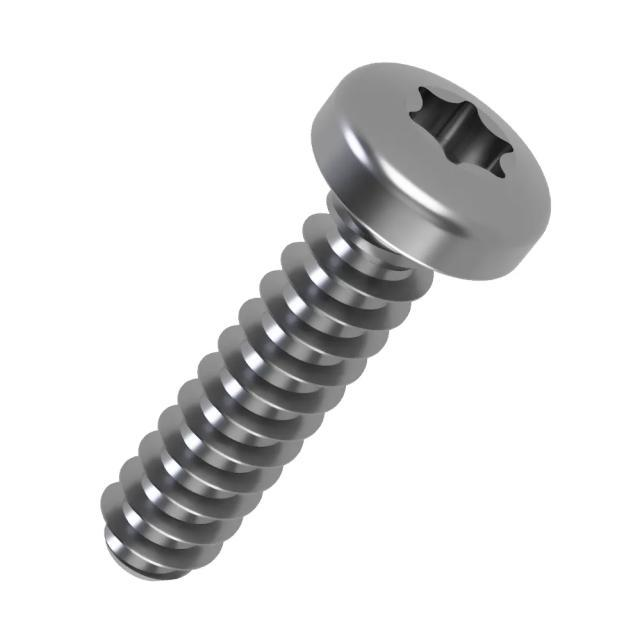torx: (308, 59, 552, 284)
